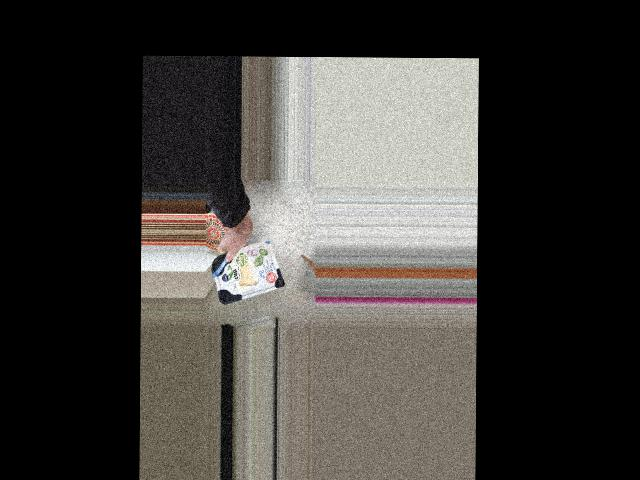cheese: (210, 241, 285, 305)
